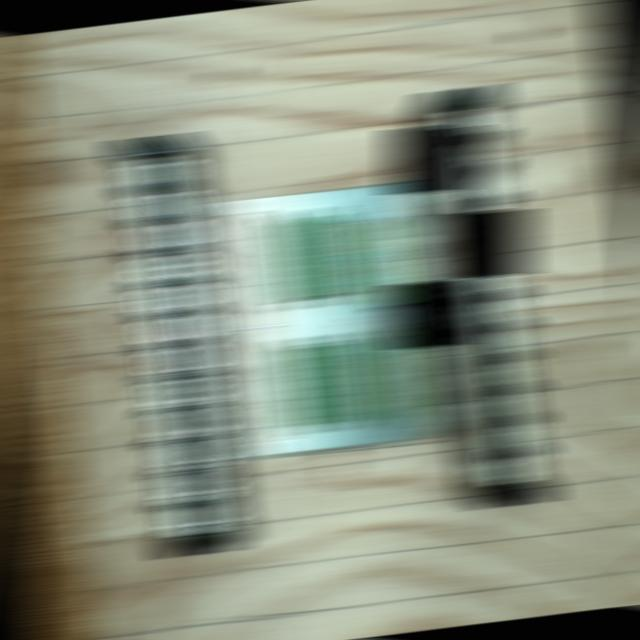Flathead_Block: (426, 84, 550, 509)
Phillips_Block: (114, 132, 235, 559)
Terminal_1: (365, 218, 412, 308), (379, 330, 424, 421)
Terminal_2: (310, 211, 354, 297), (286, 213, 330, 299), (327, 338, 370, 425), (301, 341, 344, 428), (275, 343, 318, 429)
